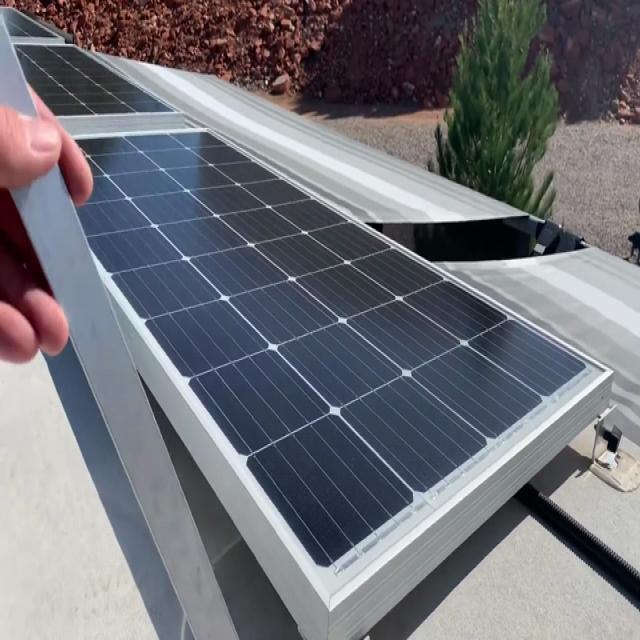Normal Solar Panel: (57, 129, 613, 611), (0, 4, 178, 116)
